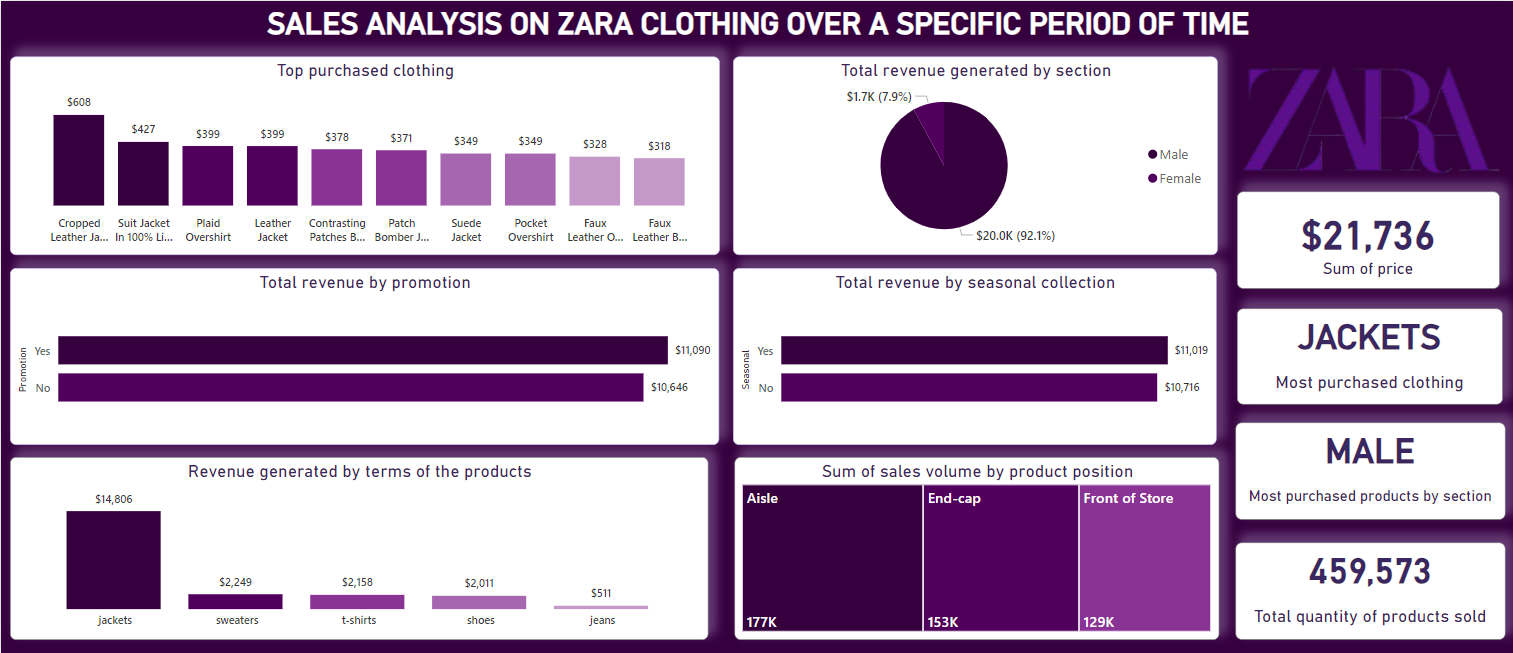

Layout of this report page (visuals, bound fields, positions):
{"tool":"powerbi","page":{"name":"Page 1","canvas":[1680,730],"ordinal":0},"visuals":[{"type":"textbox","box":[9.7,0,1662.7,61.3],"z":0},{"type":"clusteredColumnChart","title":"Top purchased clothing","fields":{"Y":["Sum(Table2.price)"],"Category":["Table2.Clothing Name"]},"box":[9.7,61.3,788.6,220.9],"z":1000},{"type":"barChart","title":"Total revenue by promotion","fields":{"Y":["Sum(Table2.price)"],"Category":["Table2.Promotion"]},"box":[10.2,296.6,788,196.6],"z":2000},{"type":"clusteredColumnChart","title":"Revenue generated by terms of the products","fields":{"Y":["Sum(Table2.price)"],"Category":["Table2.terms"]},"box":[10.2,506.7,776.2,203.4],"z":3000},{"type":"pieChart","title":"Total revenue generated by section","fields":{"Y":["Sum(Table2.price)"],"Category":["Table2.section"]},"box":[812.8,61.3,538.6,220.9],"z":4000},{"type":"treemap","title":"Sum of sales volume by product position","fields":{"Values":["Sum(Table2.Sales Volume)"],"Group":["Table2.Product Position"]},"box":[814.4,506.4,538.6,203.2],"z":5000},{"type":"barChart","title":"Total revenue by seasonal collection","fields":{"Category":["Table2.Seasonal"],"Y":["Sum(Table2.price)"]},"box":[813.5,296.6,537.2,196.6],"z":6000},{"type":"textbox","box":[1374,341.9,295.1,106.4],"z":7000},{"type":"textbox","box":[1372.4,601.5,300,108.1],"z":8000},{"type":"textbox","box":[1372.4,467.7,300,108.1],"z":9000},{"type":"card","fields":{"Values":["Sum(Table2.price)"]},"box":[1374,211.3,291.9,108.1],"z":10000},{"type":"image","box":[1370.8,61.3,300,141.9],"z":11000}]}

Visuals, with their boxes in screenshot pixels (x1, y1, x2, y2), scaled from the page's 1680x730 canvas onto the 1513x653 screenshot:
textbox: 9, 0, 1506, 55
"Top purchased clothing" clusteredColumnChart: 9, 55, 719, 252
"Total revenue by promotion" barChart: 9, 265, 719, 441
"Revenue generated by terms of the products" clusteredColumnChart: 9, 453, 708, 635
"Total revenue generated by section" pieChart: 732, 55, 1217, 252
"Sum of sales volume by product position" treemap: 733, 453, 1219, 635
"Total revenue by seasonal collection" barChart: 733, 265, 1216, 441
textbox: 1237, 306, 1503, 401
textbox: 1236, 538, 1506, 635
textbox: 1236, 418, 1506, 515
card - Sum(Table2.price): 1237, 189, 1500, 286
image: 1235, 55, 1505, 182
